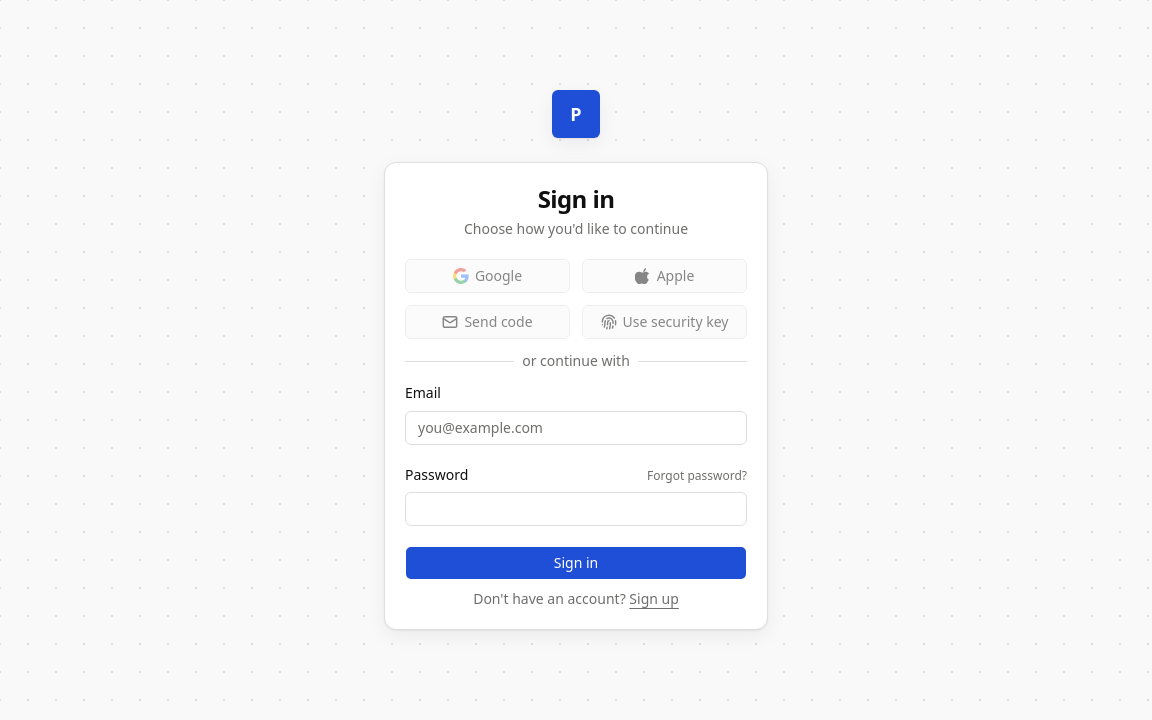
Scenario: LoginPage › shows an error for an invalid email
Step 1. Type "not-an-email" into the field labelled "Email" → (576, 428), box [405, 410, 747, 444]
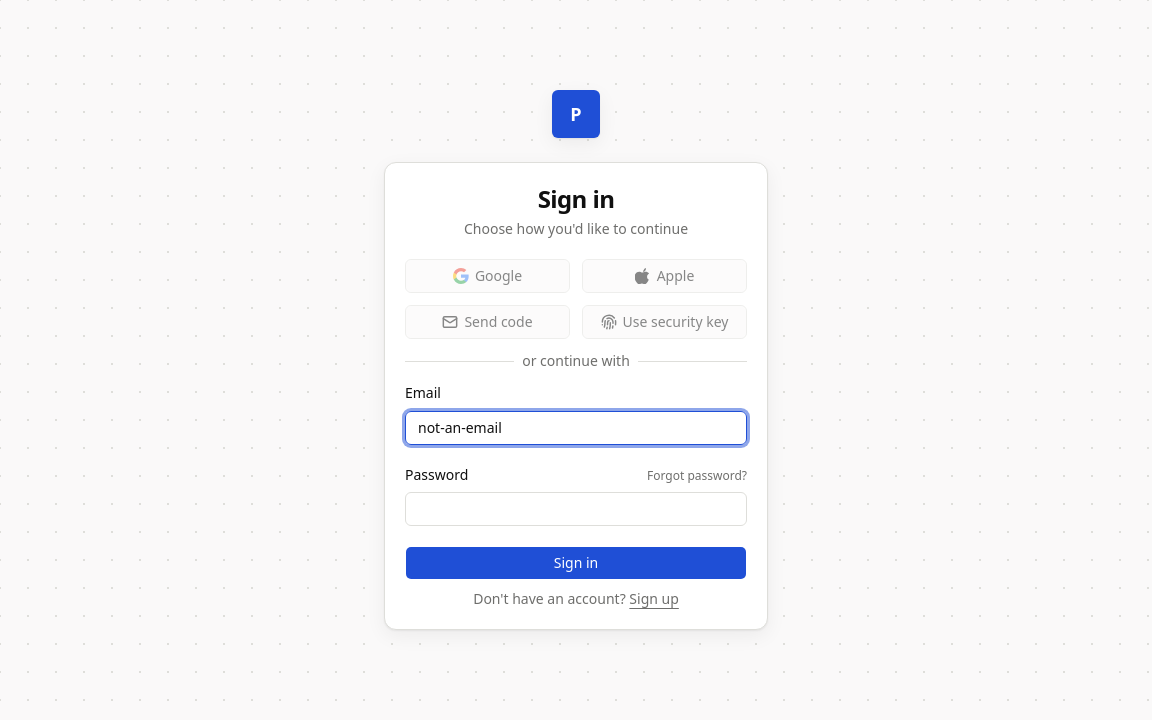
Step 2. Click the button "Sign in" → (576, 563), box [405, 546, 747, 580]
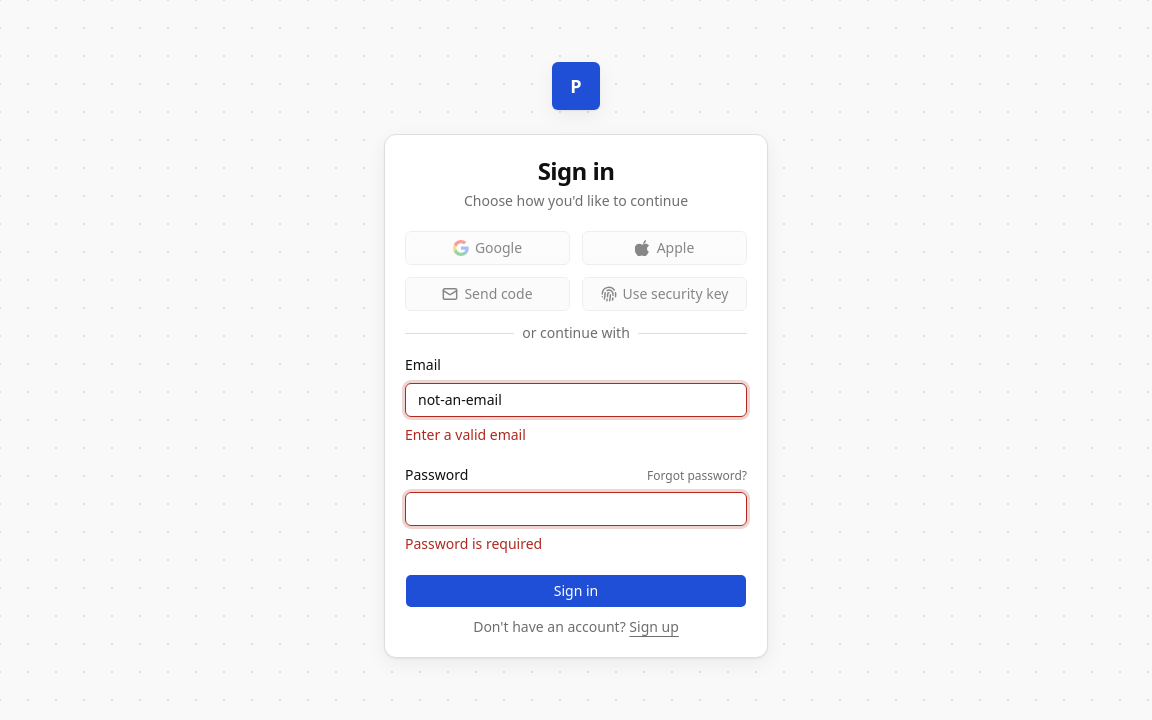
Now the text "Enter a valid email" is shown, box [405, 424, 526, 444]
